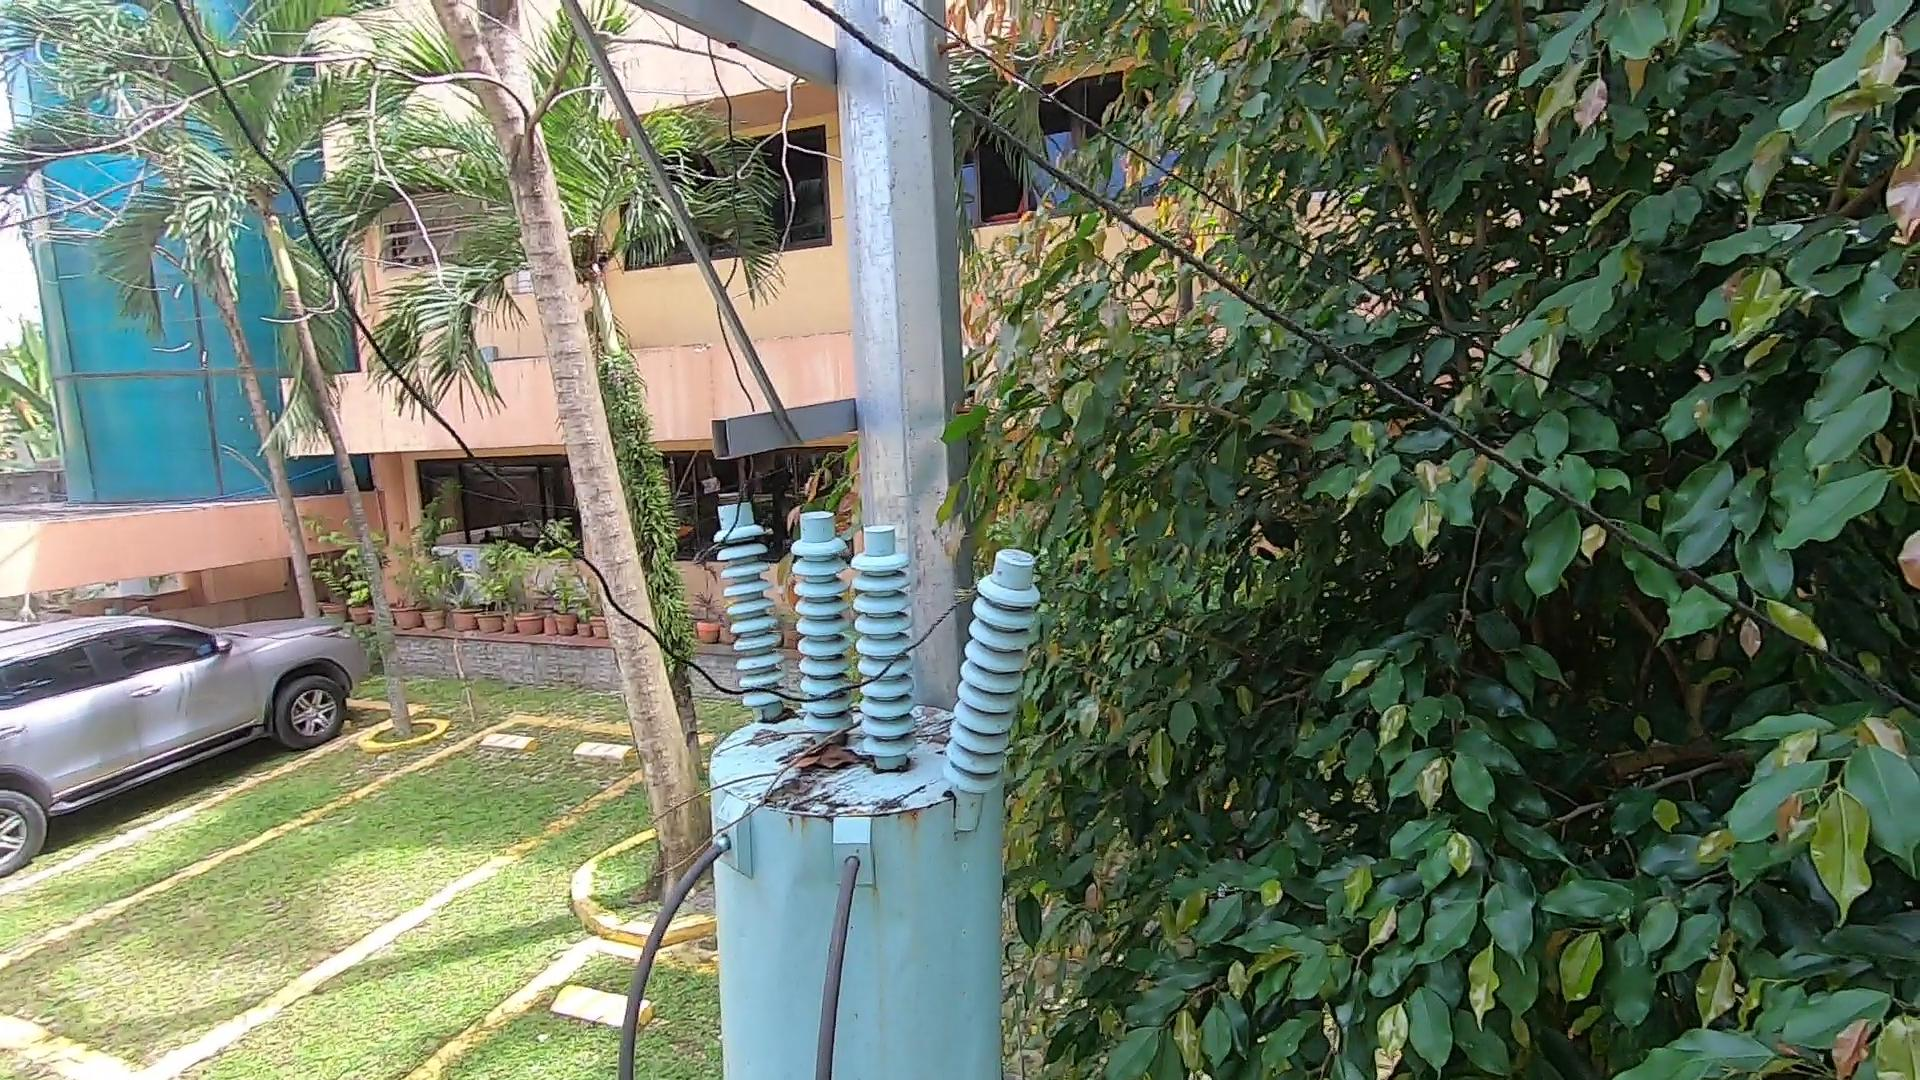leaf: (794, 748, 861, 775), (758, 707, 804, 727)
tree branch: (636, 684, 840, 909)
